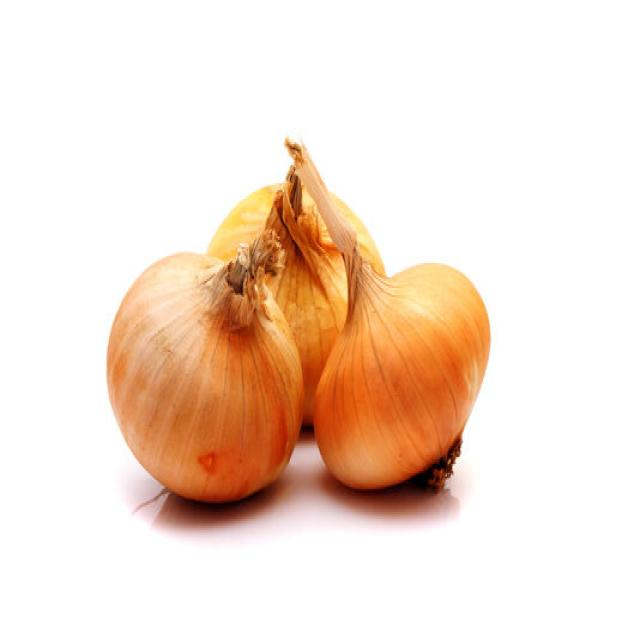Bottle Gourd: (106, 238, 304, 503)
Onion: (283, 135, 490, 493), (205, 167, 386, 427)
